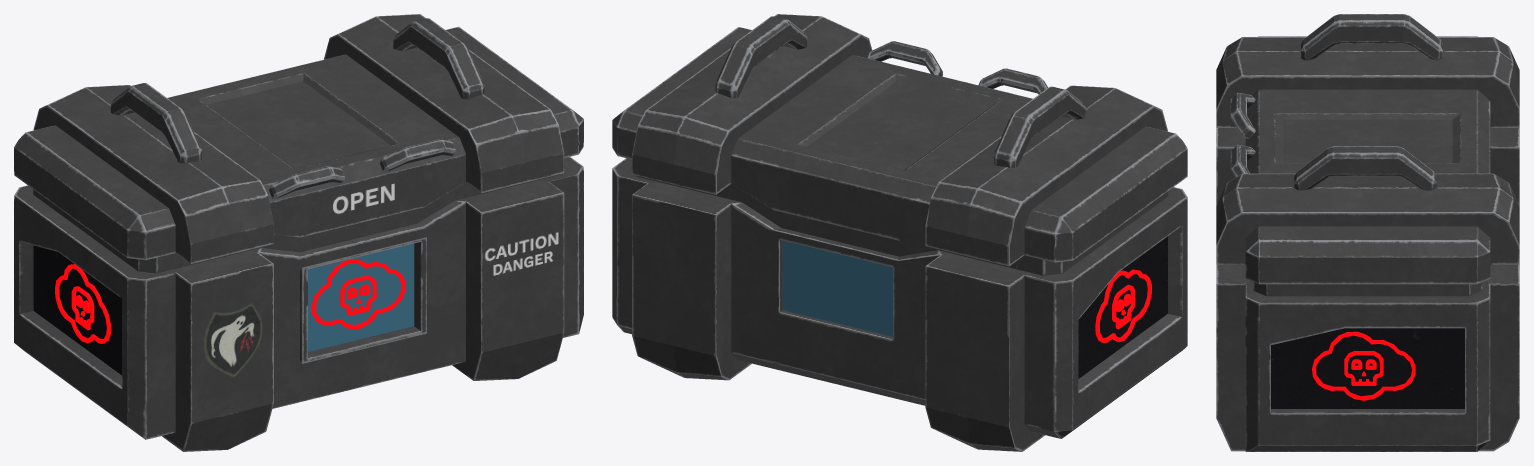
File: PoisonGas.fbx
3 renders of one model, left to right at view 1: azimuth 30°, elevation 25°; view 2: azimuth 150°, elevation 25°; view 3: azimuth 270°, elevation 25°, orthographic. The views are drawn at different scales.
Parts seen in each view (by area): view 1: Box, PoisonGas; view 2: Box, PoisonGas; view 3: Box, PoisonGas.
Boxes of the visible parts, x1,y1,x2,y2 form: Box: (14, 14, 583, 451); PoisonGas: (55, 259, 405, 343); Box: (612, 14, 1187, 451); PoisonGas: (1095, 269, 1151, 342); Box: (1216, 14, 1519, 451); PoisonGas: (1312, 331, 1415, 400).
Size of the model in its own units: 334 by 207 by 199.
4 materials, 1 textured.
